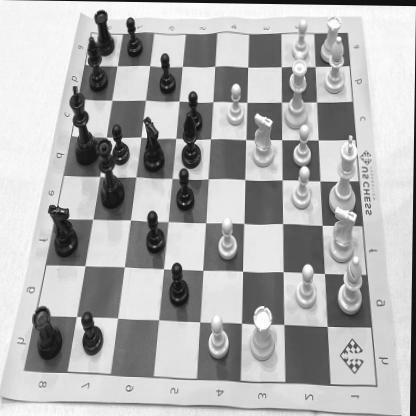black-bishop: (88, 38, 112, 93)
black-king: (68, 80, 100, 168)
black-knight: (47, 202, 82, 255), (144, 110, 170, 169), (180, 118, 208, 172)
black-pawn: (144, 206, 168, 256), (176, 168, 200, 216), (80, 306, 104, 354), (165, 257, 190, 302), (158, 52, 179, 94), (112, 123, 131, 166), (186, 90, 204, 129), (125, 19, 143, 58)
black-queen: (94, 146, 126, 214)
black-rook: (32, 299, 64, 361), (95, 12, 118, 55)
white-bishop: (320, 39, 349, 103), (340, 252, 370, 312)
white-king: (330, 136, 361, 214)
white-knight: (330, 202, 362, 264), (251, 108, 278, 169)
white-pawn: (288, 155, 316, 210), (210, 308, 237, 358), (286, 115, 310, 168), (214, 213, 240, 261), (288, 20, 312, 64), (294, 262, 317, 307), (228, 82, 248, 128), (288, 52, 306, 92)
white-queen: (282, 62, 312, 117)
white-rook: (318, 13, 348, 76), (248, 302, 278, 364)
